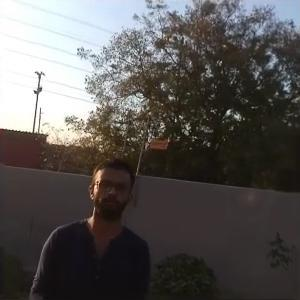follow: (24, 154, 155, 298)
